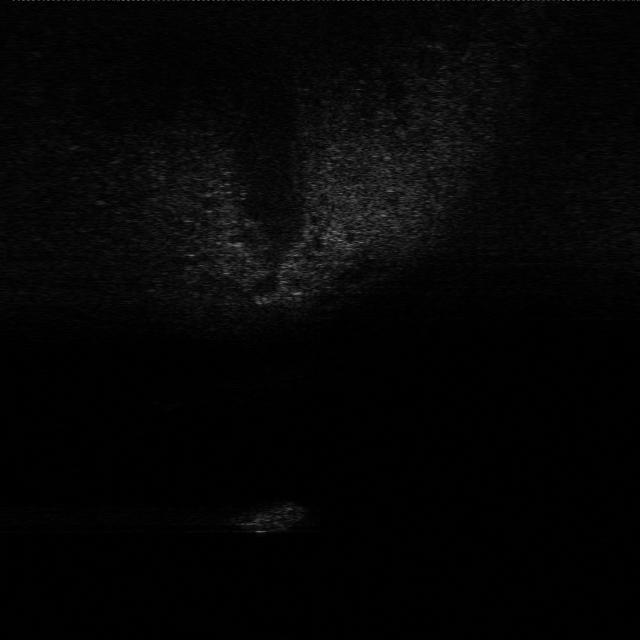circle cage: (228, 497, 308, 538)
